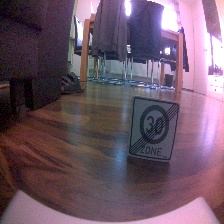dreisiger_zone_ende: (128, 95, 180, 164)
